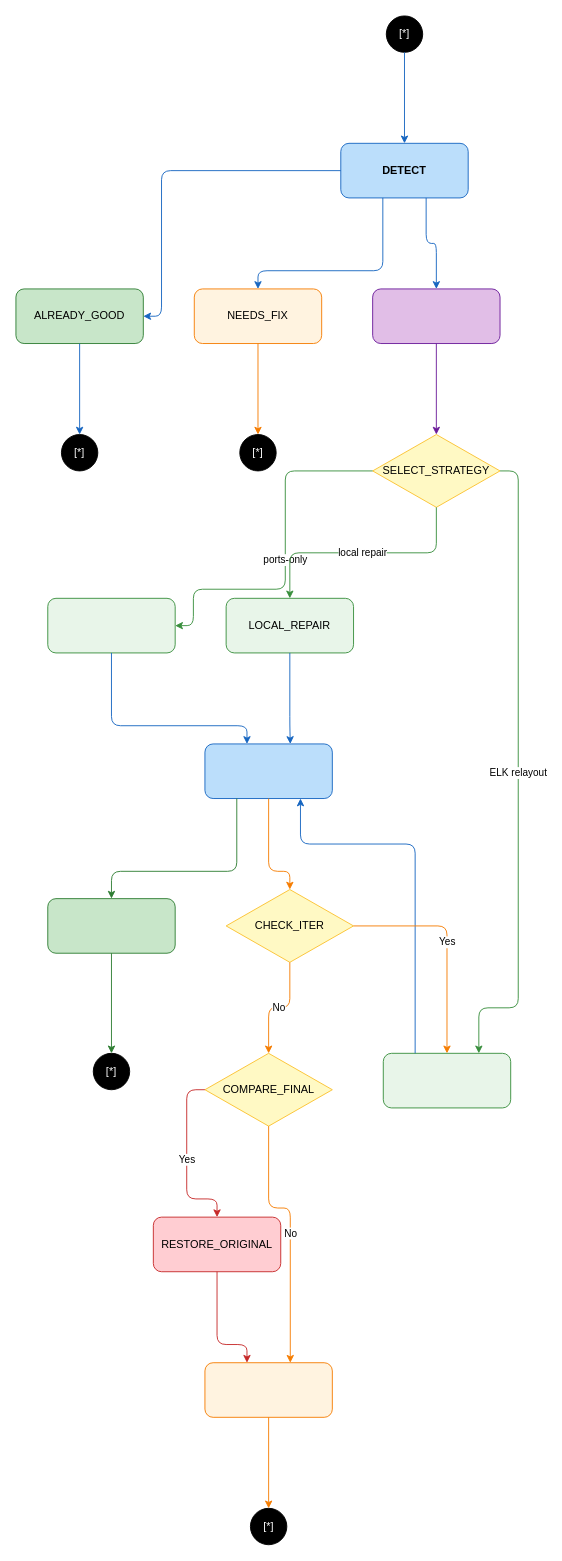
Some shapes in this 562 by 1561 pixel diagram are drawn without their labels. Each missing label, with the centre of its shape:
APPLY_FIX: the point at 436,316
ELK_RELAYOUT: the point at 446,1080
FIXED: the point at 111,925
PARTIAL: the point at 268,1389
PORTS_ONLY: the point at 111,625
RE_DETECT: the point at 268,771
